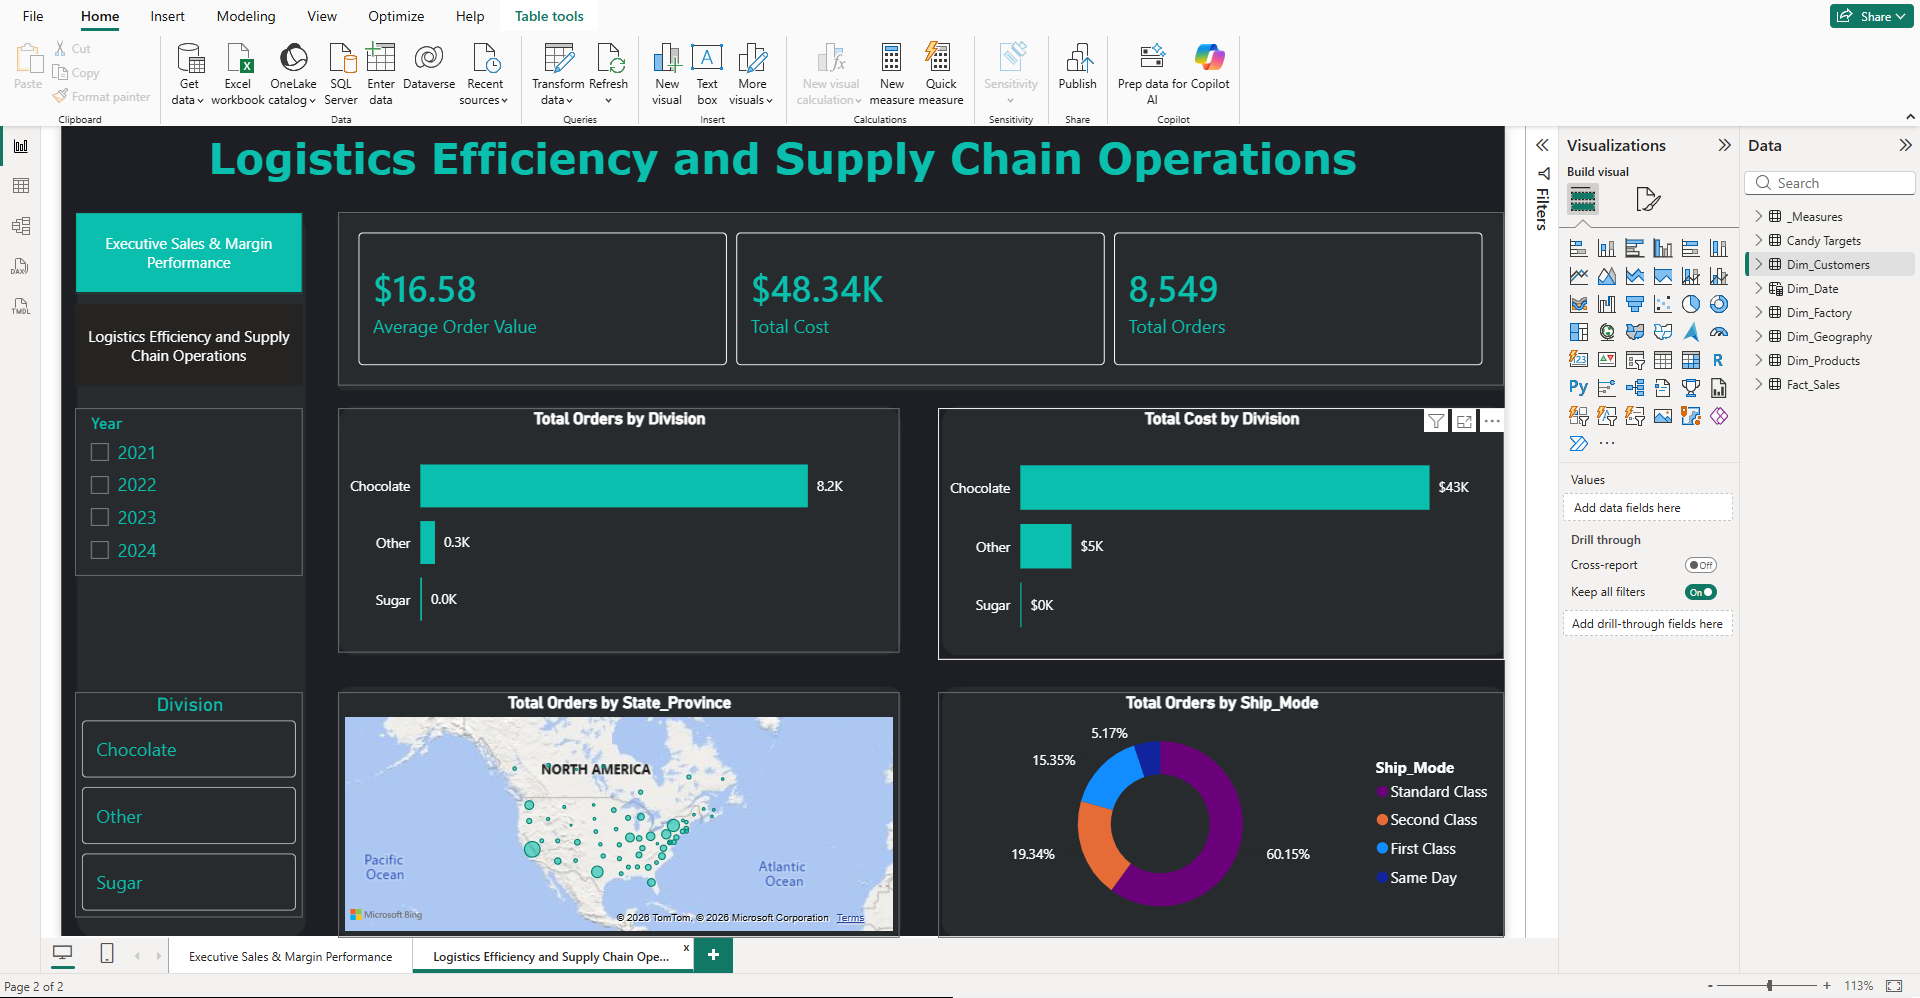

The page's visual inventory and layout, read from the dashboard file:
{"tool":"powerbi","page":{"name":"Logistics Efficiency & Supply Chain Operations","canvas":[1280,720],"ordinal":1},"visuals":[{"type":"cardVisual","fields":{"Data":["_Measures.Average Order Value","_Measures.Total Cost","_Measures.Total Orders"]},"box":[245.6,76.7,1034.4,154.4],"z":0},{"type":"clusteredBarChart","fields":{"Y":["_Measures.Total Orders"],"Category":["Dim_Products.Division"]},"box":[245.6,250,497.8,216.7],"z":1000},{"type":"clusteredBarChart","fields":{"Y":["_Measures.Total Cost"],"Category":["Dim_Products.Division"]},"box":[777.8,250,502.2,223.3],"z":2000},{"type":"map","fields":{"Category":["Dim_Customers.State_Province"],"Size":["_Measures.Total Orders"]},"box":[245.6,502.2,497.8,217.8],"z":3000},{"type":"donutChart","fields":{"Category":["Fact_Sales.Ship_Mode"],"Y":["_Measures.Total Orders"]},"box":[777.8,502.2,502.2,217.8],"z":4000},{"type":"slicer","fields":{"Values":["Dim_Date.Year"]},"box":[12.2,250,202.2,148.9],"z":5000},{"type":"advancedSlicerVisual","fields":{"Values":["Candy Targets.Division"]},"box":[12.2,502.2,202.2,200],"z":6000},{"type":"textbox","box":[0,0,1280,76.7],"z":7000},{"type":"pageNavigator","box":[12.2,76.7,202.2,154.4],"z":8000}]}

Visuals, with their boxes on the page's 1280x720 design canvas (x1, y1, x2, y2). These are canvas units, not pixel positions in the 1920x998 screenshot, which may show the page scaled, cropped or inside an application window:
cardVisual - _Measures.Average Order Value x _Measures.Total Cost: <region>246, 77, 1280, 231</region>
clusteredBarChart - _Measures.Total Orders x Dim_Products.Division: <region>246, 250, 743, 467</region>
clusteredBarChart - _Measures.Total Cost x Dim_Products.Division: <region>778, 250, 1280, 473</region>
map - Dim_Customers.State_Province x _Measures.Total Orders: <region>246, 502, 743, 720</region>
donutChart - Fact_Sales.Ship_Mode x _Measures.Total Orders: <region>778, 502, 1280, 720</region>
slicer - Dim_Date.Year: <region>12, 250, 214, 399</region>
advancedSlicerVisual - Candy Targets.Division: <region>12, 502, 214, 702</region>
textbox: <region>0, 0, 1280, 77</region>
pageNavigator: <region>12, 77, 214, 231</region>
